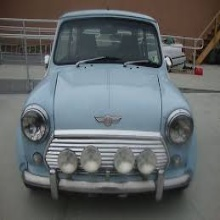no damage: (17, 9, 196, 204)
